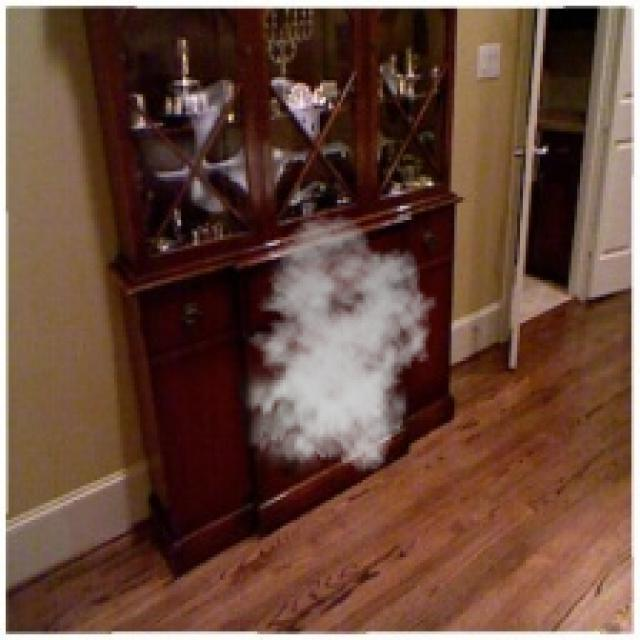Smoke: (234, 215, 437, 480)
